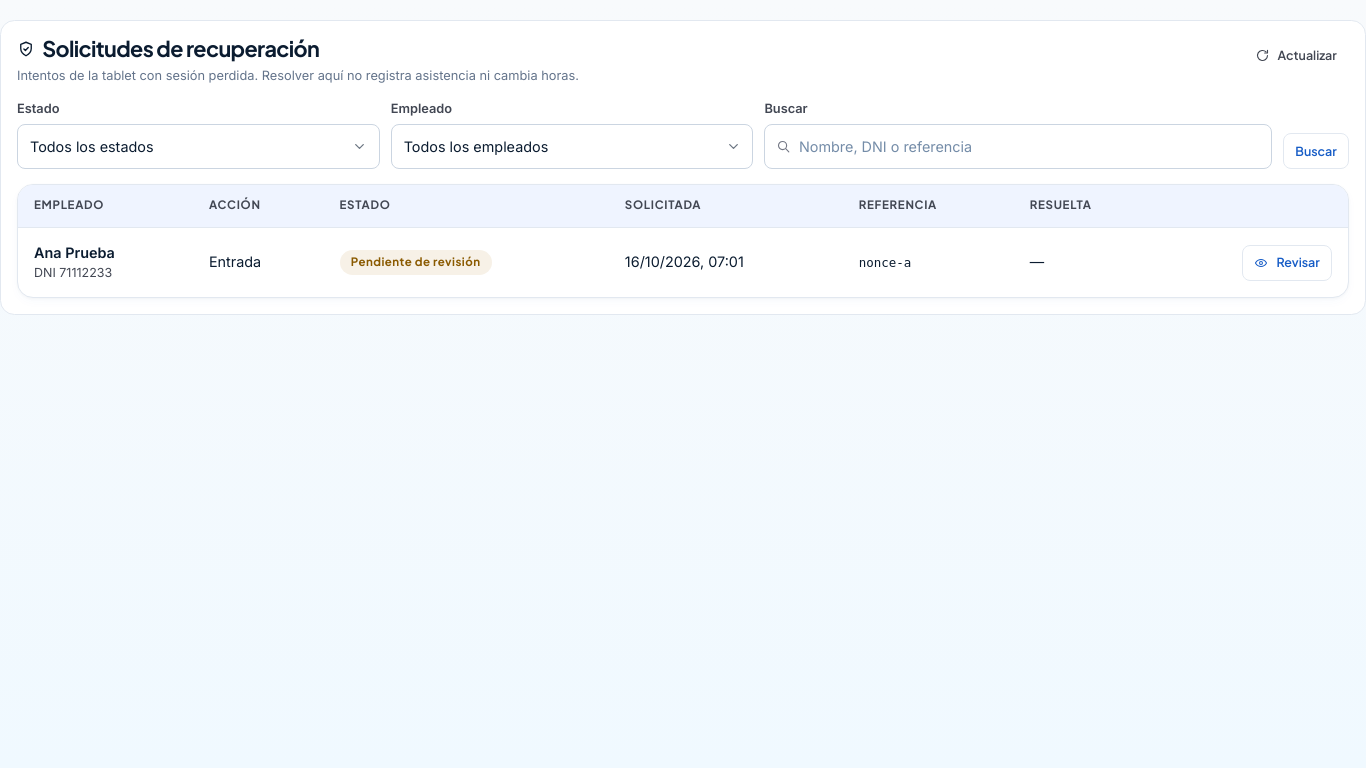
Test case: panel de solicitudes de recuperación › explica el estado real PREPARATION_ONLY sin confundirlo con una confirmación
The image size is (1366, 768).
Expected: the dropdown named "Filtrar solicitudes por empleado" is shown, x1=391 y1=124 x2=753 y2=169
Expected: the dropdown named "Filtrar solicitudes por estado" is shown, x1=17 y1=124 x2=380 y2=169
Click the button with test id "recovery-open" at (1287, 263), box x1=1242 y1=245 x2=1332 y2=281
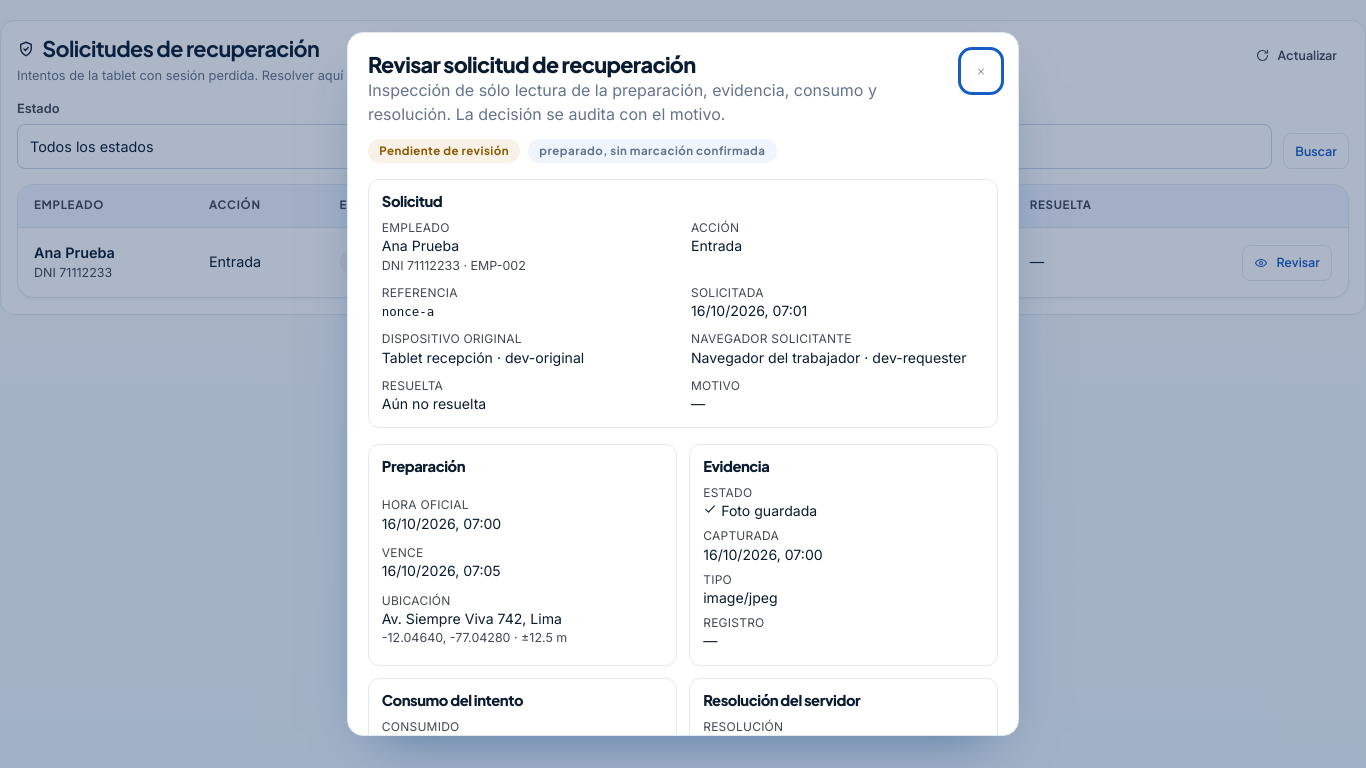
Now the text "preparado, sin marcación confirmada" is shown, box x1=528 y1=139 x2=777 y2=163
